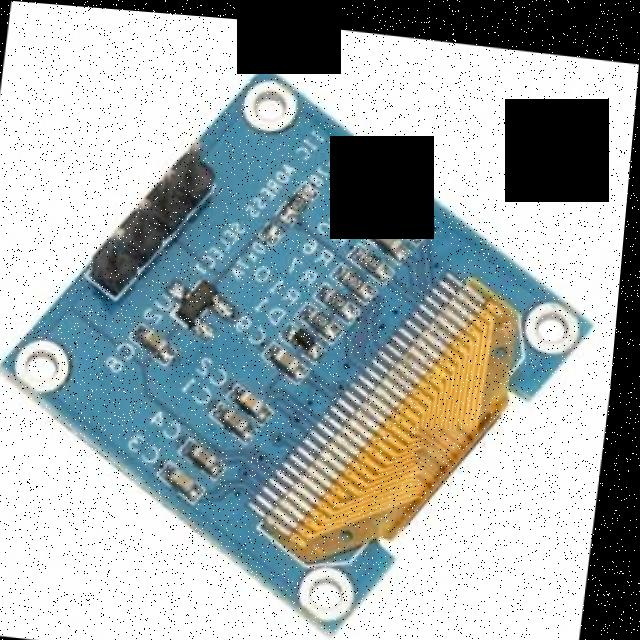4439: (166, 269, 241, 338)
capacitor 1V5: (174, 458, 207, 498), (140, 321, 183, 351), (272, 338, 311, 370), (389, 197, 428, 228), (239, 381, 276, 410), (229, 401, 260, 431), (376, 220, 409, 247), (196, 440, 228, 463)
connector -5v-: (106, 119, 204, 294)
diode -D1-: (292, 314, 325, 349)
resistor IR1: (360, 240, 396, 268), (287, 180, 314, 217), (342, 263, 380, 287), (312, 301, 347, 325), (331, 280, 363, 306)
